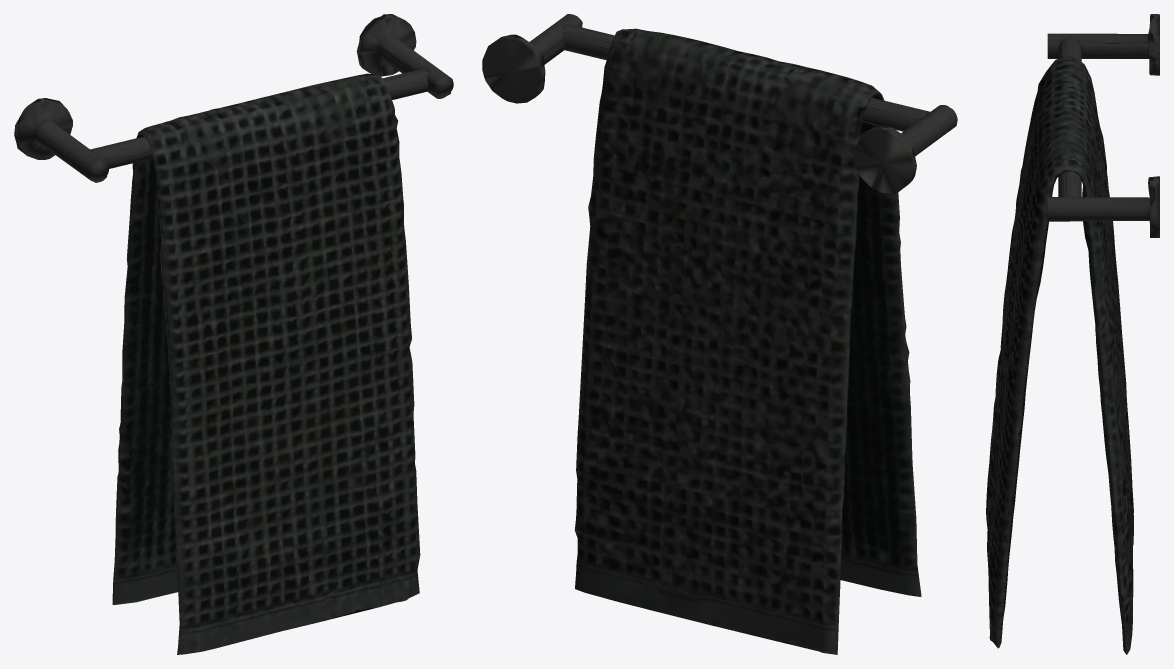
Rendered from mobile.glb.
The picture shows the model from 3 angles, left to right: view 1: azimuth 30°, elevation 25°; view 2: azimuth 150°, elevation 25°; view 3: azimuth 270°, elevation 25°; orthographic projection. The views are drawn at different scales.
Parts seen in each view (by area): view 1: towel; view 2: towel; view 3: towel.
Part boxes in pixels (left/top/right/bottom): towel: left=14, top=14, right=453, bottom=654; towel: left=482, top=14, right=957, bottom=654; towel: left=986, top=14, right=1159, bottom=654.
Bounding box in the file's own units: 0.5 × 0.6131 × 0.1947.
Materials: 1 (1 with a texture image).
